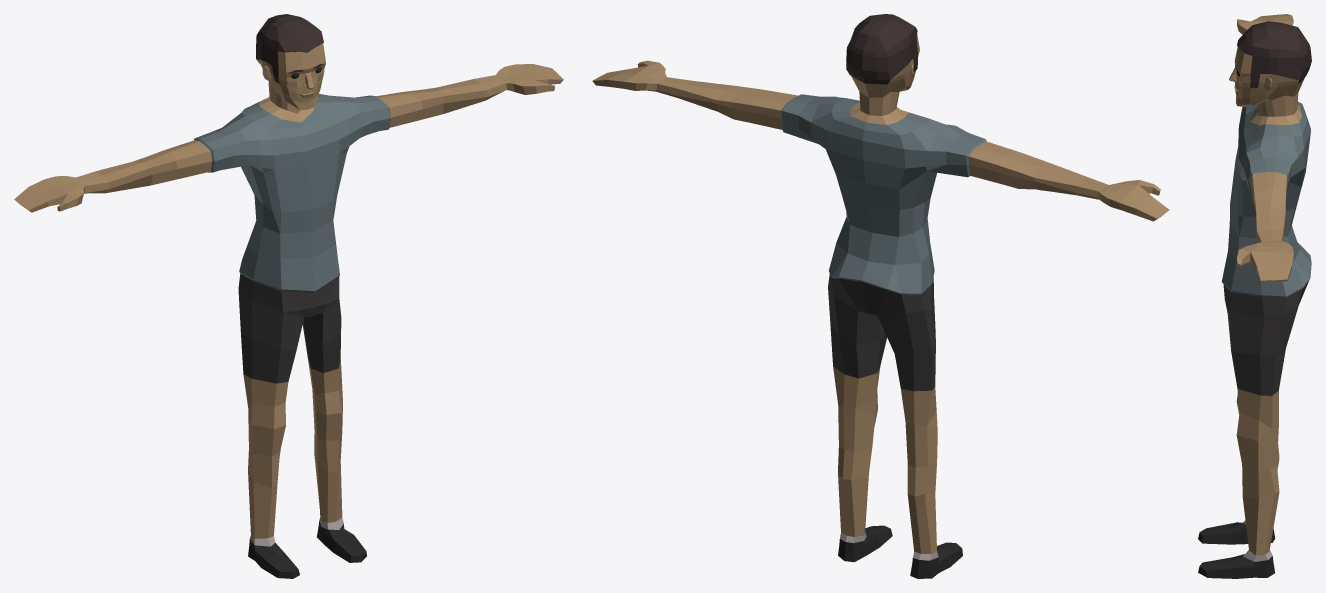
Rendered from man.glb.
The picture shows the model from 3 angles, left to right: view 1: azimuth 30°, elevation 25°; view 2: azimuth 150°, elevation 25°; view 3: azimuth 270°, elevation 25°; orthographic projection. The views are drawn at different scales.
Parts seen in each view (by area): view 1: BaseHuman_a4c468, BaseHuman_80a81e, BaseHuman_72aacc, BaseHuman_fe08c1, BaseHuman_5dc09d; view 2: BaseHuman_a4c468, BaseHuman_80a81e, BaseHuman_72aacc, BaseHuman_fe08c1, BaseHuman_5dc09d; view 3: BaseHuman_a4c468, BaseHuman_80a81e, BaseHuman_72aacc, BaseHuman_fe08c1, BaseHuman_5dc09d, BaseHuman_57125e.
Part boxes in pixels (x1,y1,x2,y2): BaseHuman_a4c468: (14, 43, 563, 538); BaseHuman_80a81e: (194, 94, 390, 292); BaseHuman_72aacc: (238, 273, 341, 383); BaseHuman_fe08c1: (256, 14, 325, 83); BaseHuman_5dc09d: (248, 66, 366, 578); BaseHuman_a4c468: (592, 34, 1169, 554); BaseHuman_80a81e: (781, 94, 986, 295); BaseHuman_72aacc: (828, 273, 935, 391); BaseHuman_fe08c1: (846, 14, 917, 84); BaseHuman_5dc09d: (838, 525, 962, 578); BaseHuman_a4c468: (1229, 14, 1304, 555); BaseHuman_80a81e: (1221, 101, 1311, 298); BaseHuman_72aacc: (1223, 280, 1309, 395); BaseHuman_fe08c1: (1235, 21, 1311, 88); BaseHuman_5dc09d: (1198, 70, 1275, 578); BaseHuman_57125e: (1243, 520, 1272, 561).
Size of the model in its own units: 5.2 by 4.84 by 0.9428.
